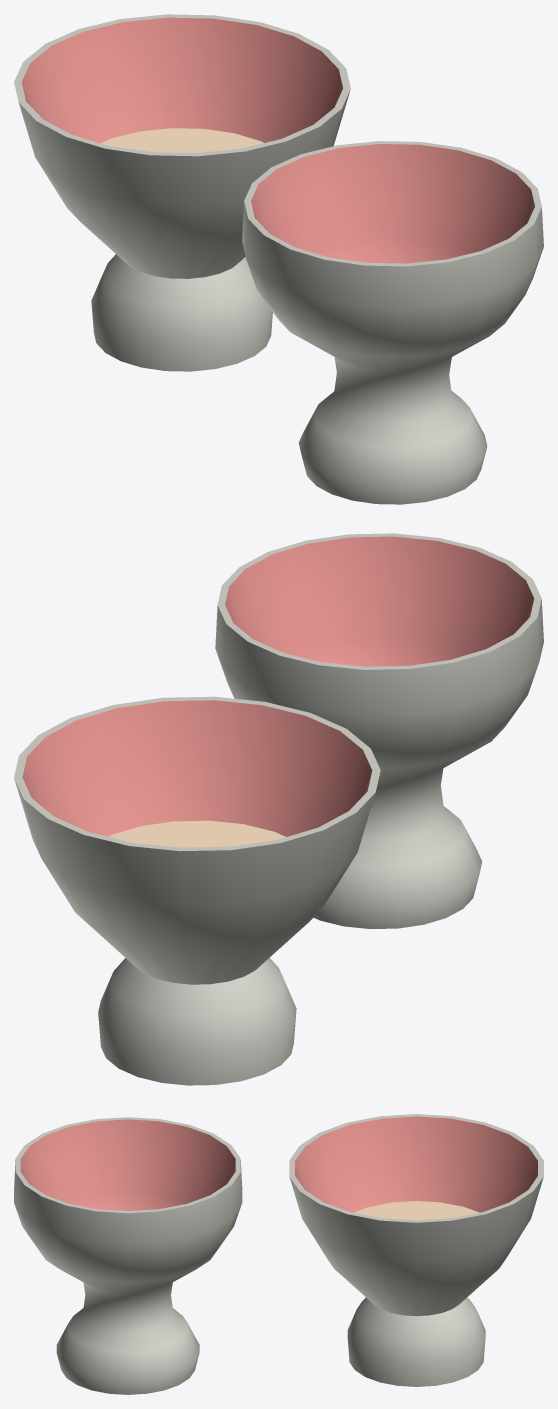
Rendered from OT_204_two_small_cups_var2.glb.
The picture shows the model from 3 angles, top to bottom: view 1: azimuth 30°, elevation 25°; view 2: azimuth 150°, elevation 25°; view 3: azimuth 270°, elevation 25°; orthographic projection. The views are drawn at different scales.
Visible parts, largest first — view 1: cup_1, cup_2; view 2: cup_1, cup_2; view 3: cup_1, cup_2.
Part boxes in pixels (x1,y1,x2,y2): cup_1: (14, 14, 350, 371); cup_2: (242, 141, 543, 504); cup_1: (14, 696, 380, 1085); cup_2: (215, 533, 543, 928); cup_1: (289, 1114, 543, 1386); cup_2: (14, 1117, 242, 1394).
Size of the model in its own units: 0.2765 by 0.2333 by 0.5571.
